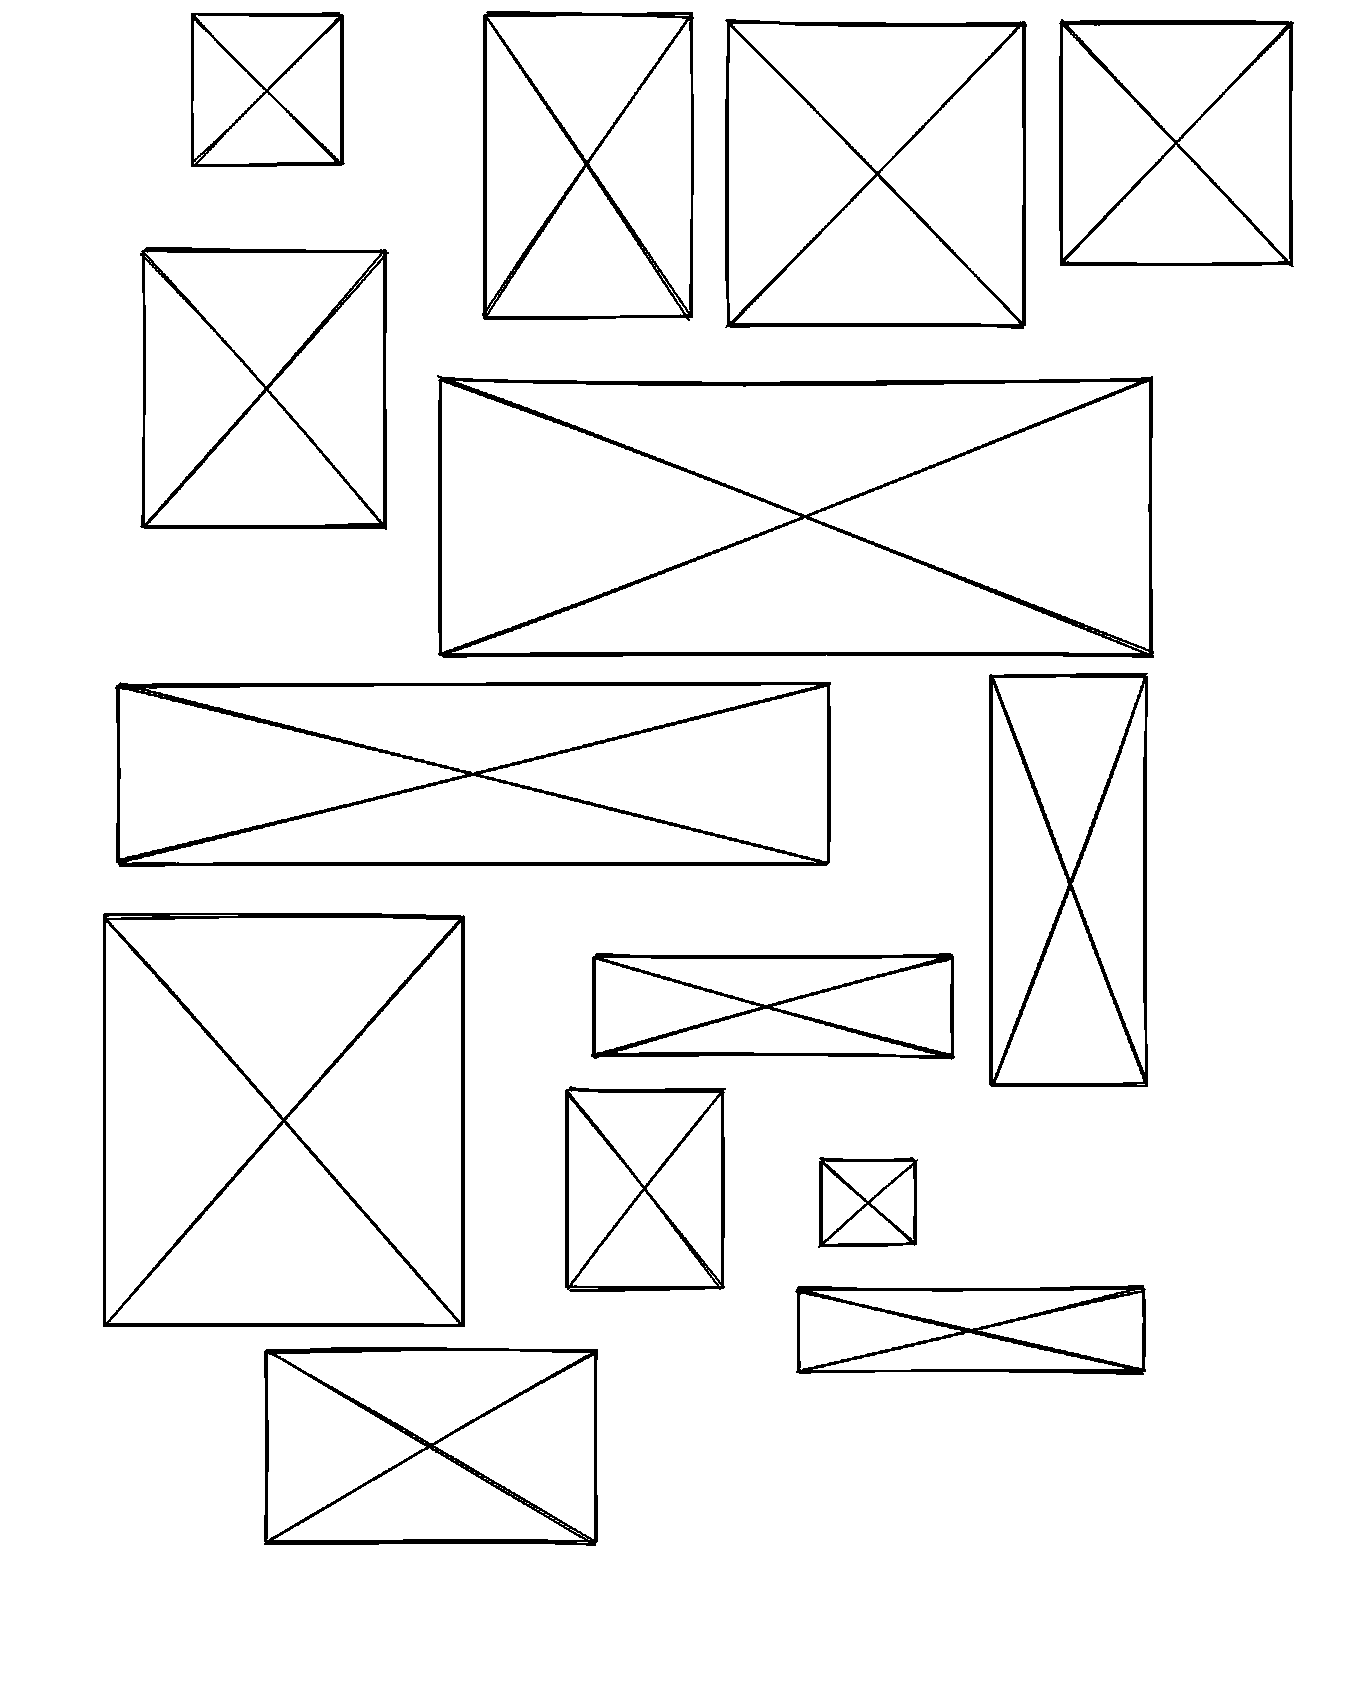Image: (433, 371, 1157, 661), (96, 906, 468, 1331), (112, 677, 836, 871), (721, 15, 1031, 335), (134, 243, 394, 534), (984, 668, 1154, 1091), (475, 8, 701, 323), (259, 1342, 602, 1549), (1054, 14, 1296, 270), (587, 946, 959, 1061), (559, 1082, 729, 1296), (790, 1281, 1151, 1378), (184, 7, 351, 171), (813, 1154, 924, 1252)
